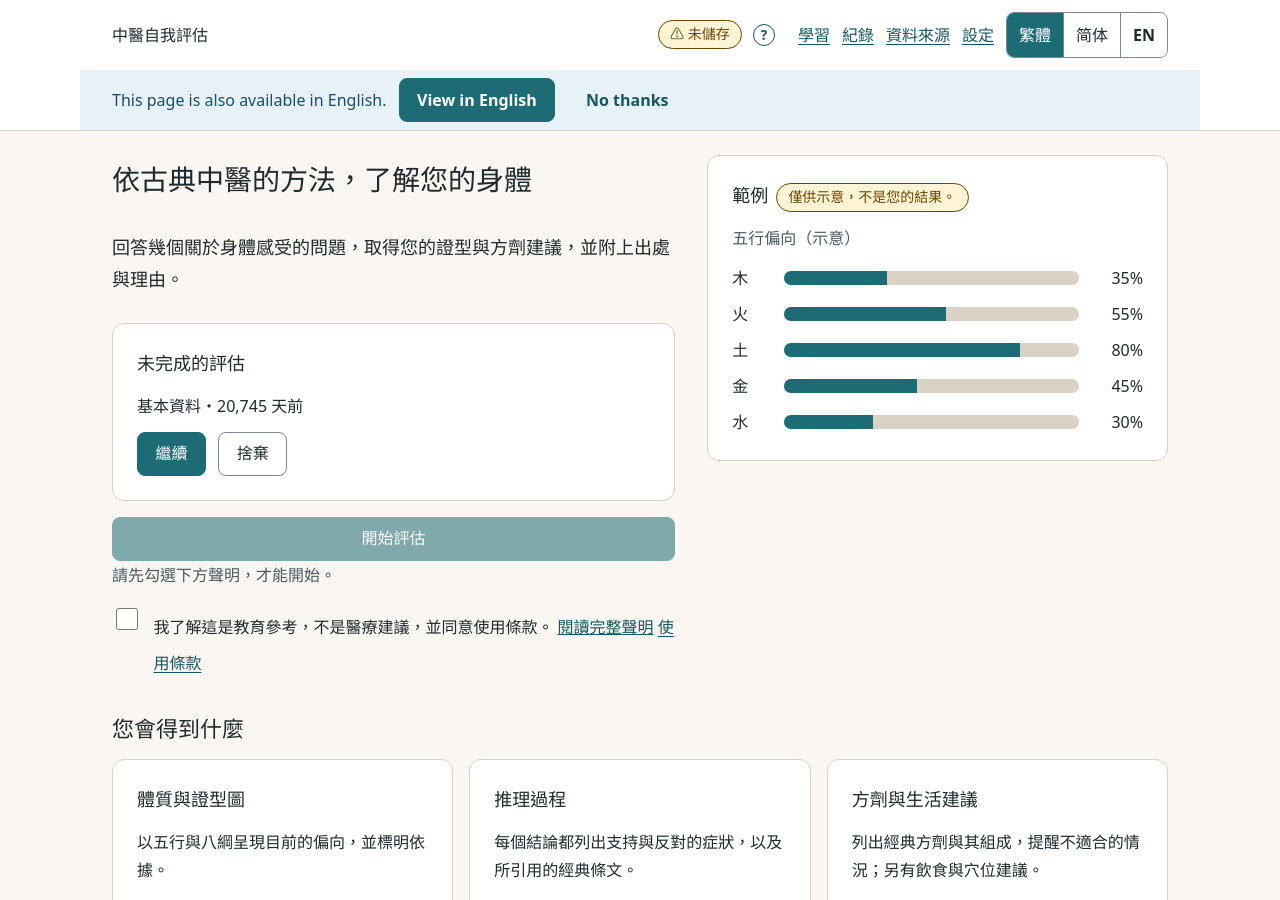
storage and preferences in the shell › shows the 'Not saved' chip when storage is blocked, and the app still works (E20)
Expected: the element with test id "not-saved" shows "未儲存", x1=688 y1=24 x2=730 y2=43
Expected: the heading "依古典中醫的方法，了解您的身體" is shown, x1=112 y1=160 x2=532 y2=198
Click the button named "說明：為何未儲存": [764, 35] box x1=742 y1=13 x2=786 y2=57
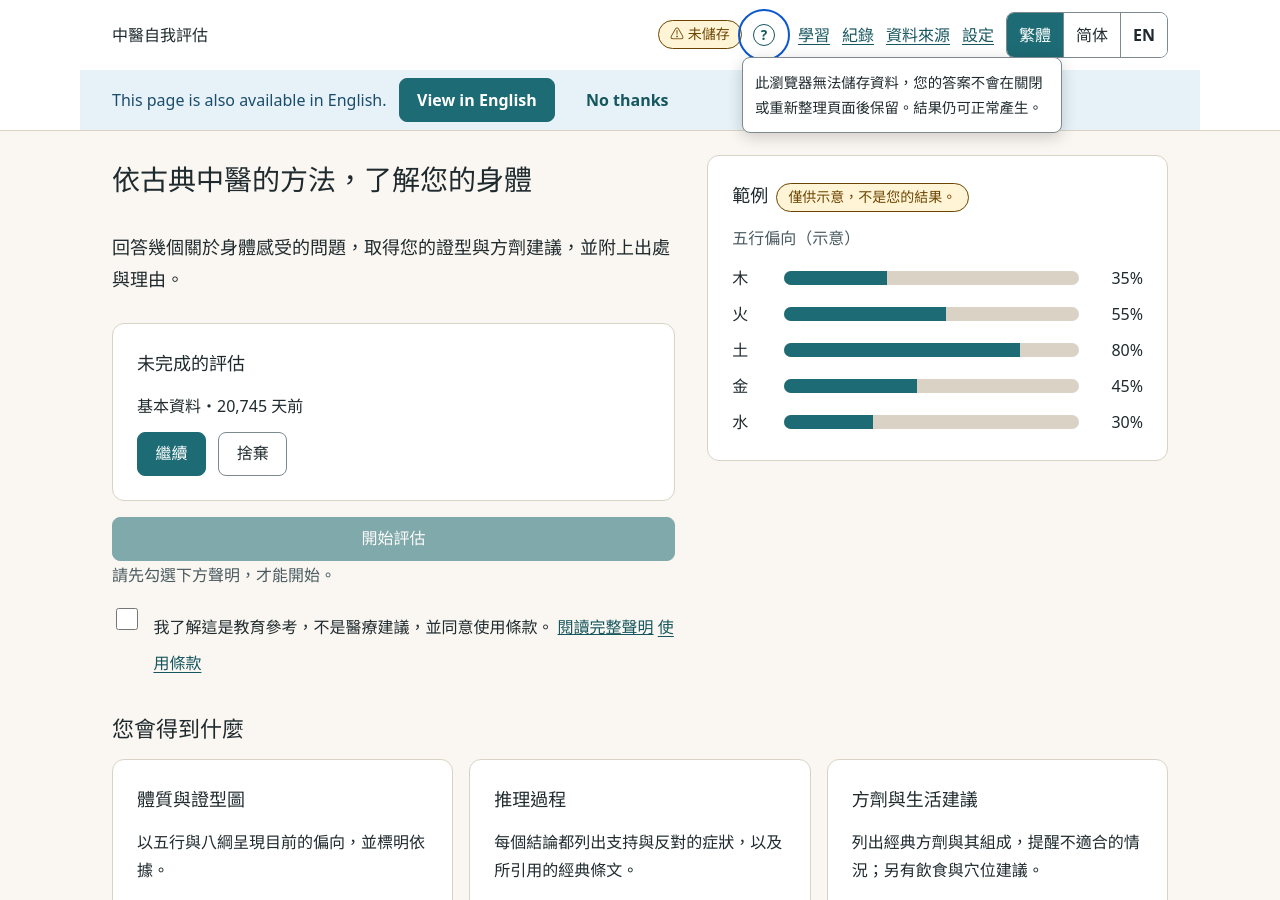
Now the text "此瀏覽器無法儲存資料，您的答案不會在關閉或重新整理頁面後保留。結果仍可正常產生。" is shown, box x1=742 y1=57 x2=1062 y2=133
